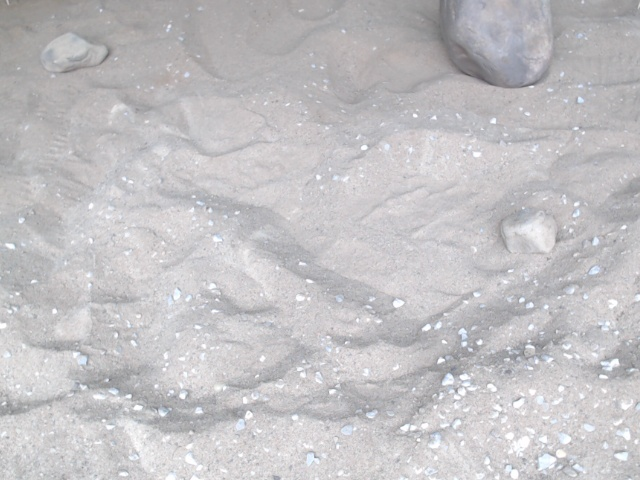rock: (434, 1, 560, 94), (35, 28, 114, 78), (494, 203, 562, 260)
